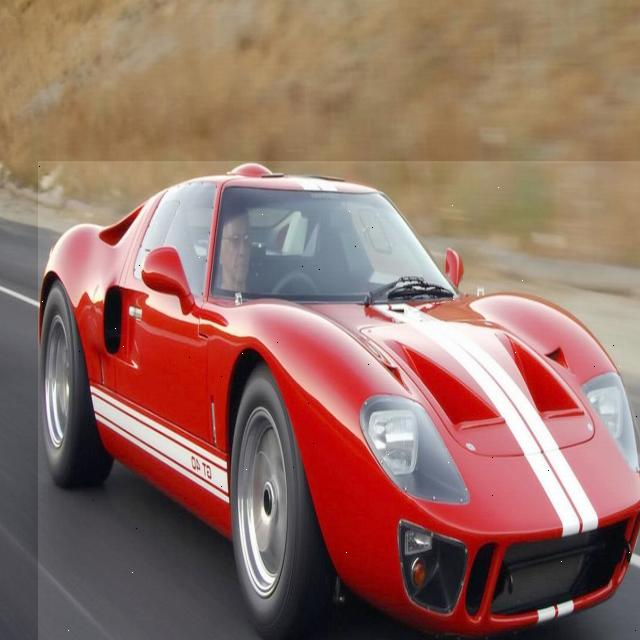car: (38, 161, 640, 640)
